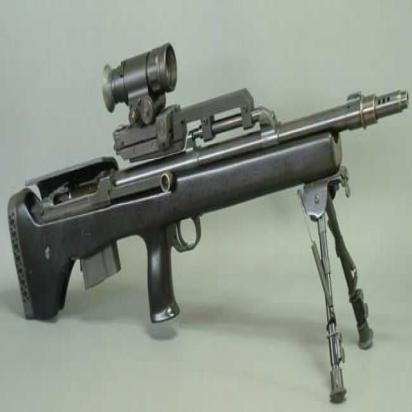Gun: (5, 39, 410, 328)
